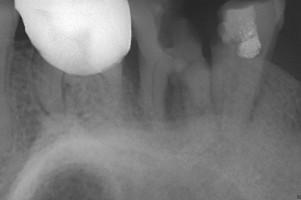Dental Caries: (120, 52, 145, 121), (165, 76, 189, 122)
